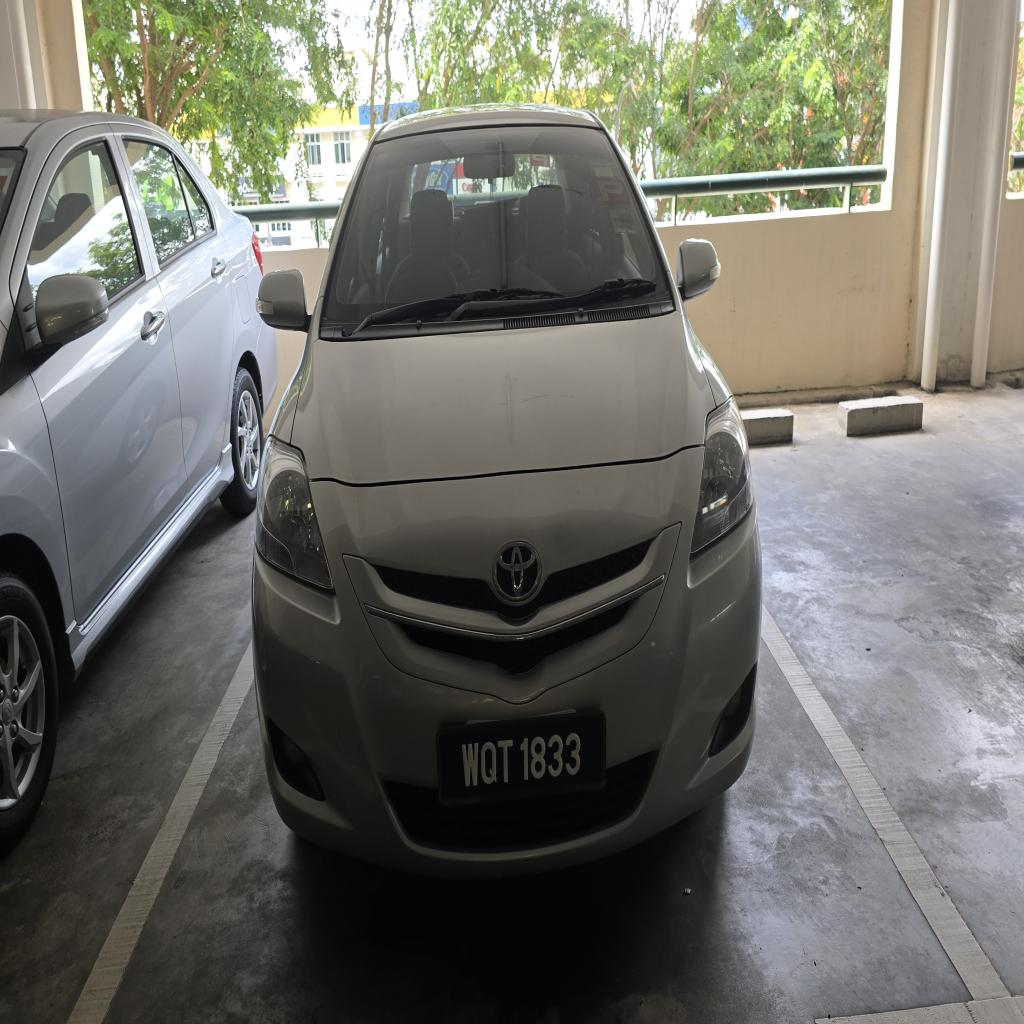car: (253, 107, 761, 874)
car plate: (437, 713, 605, 803)
